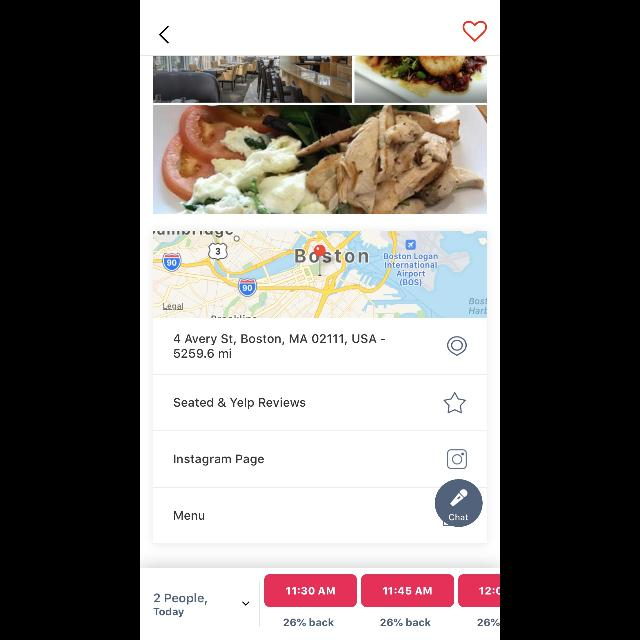icon: (463, 22, 487, 42), (444, 392, 466, 413), (447, 336, 467, 356), (159, 26, 169, 44), (242, 602, 250, 606)
image: (154, 106, 486, 214), (154, 232, 486, 318), (154, 56, 352, 102), (355, 56, 487, 102), (447, 449, 467, 469), (450, 489, 468, 506)
text: (173, 334, 384, 358), (174, 397, 306, 409), (153, 593, 207, 617), (174, 454, 264, 466), (381, 618, 432, 626), (284, 618, 334, 626), (173, 512, 204, 520), (478, 618, 500, 626), (449, 514, 468, 520)
textbutton: (362, 574, 454, 608), (265, 574, 357, 608), (458, 574, 500, 606)
